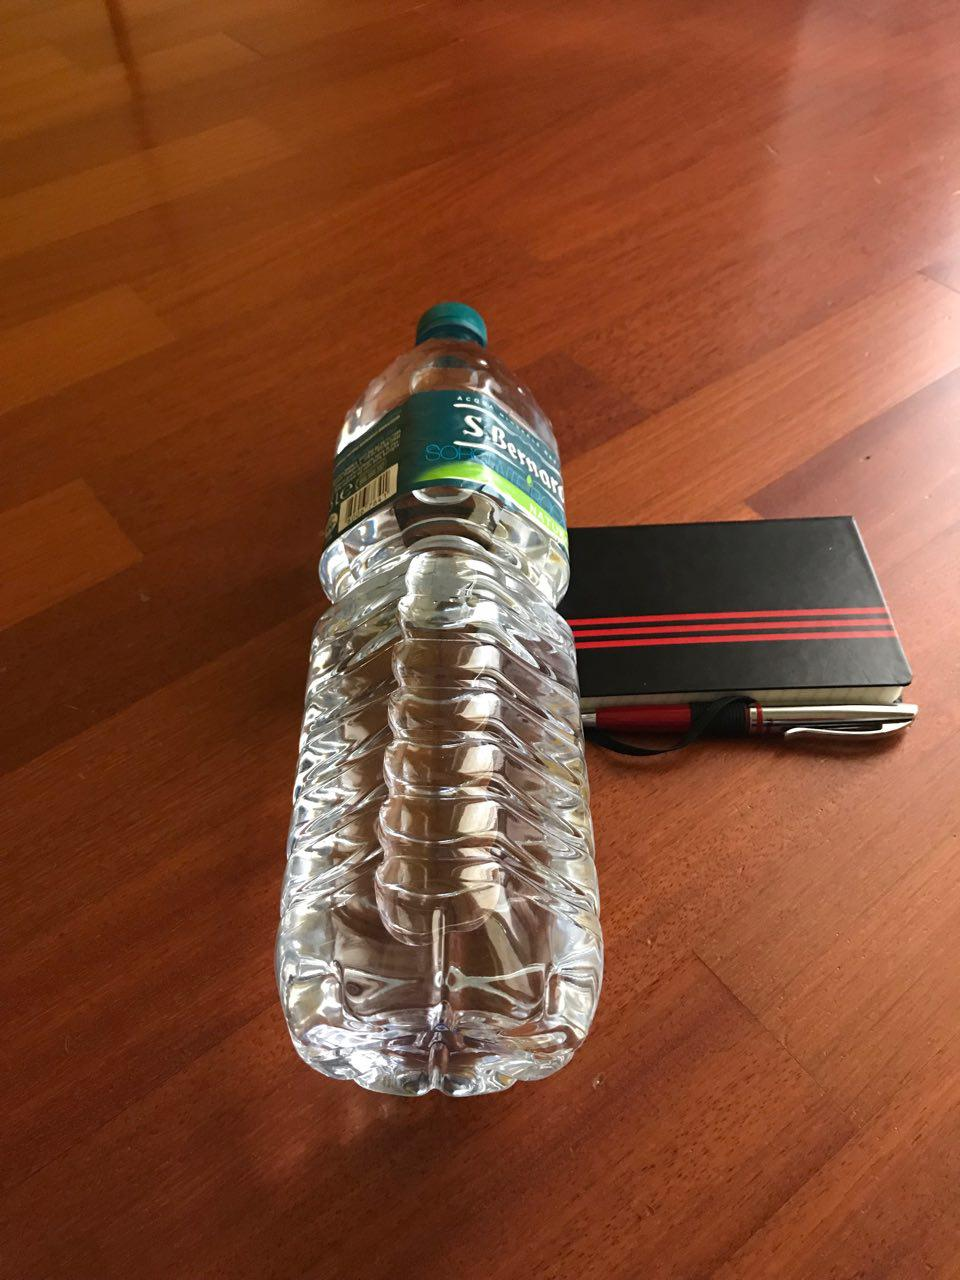san_bernardo: (271, 299, 606, 1102)
